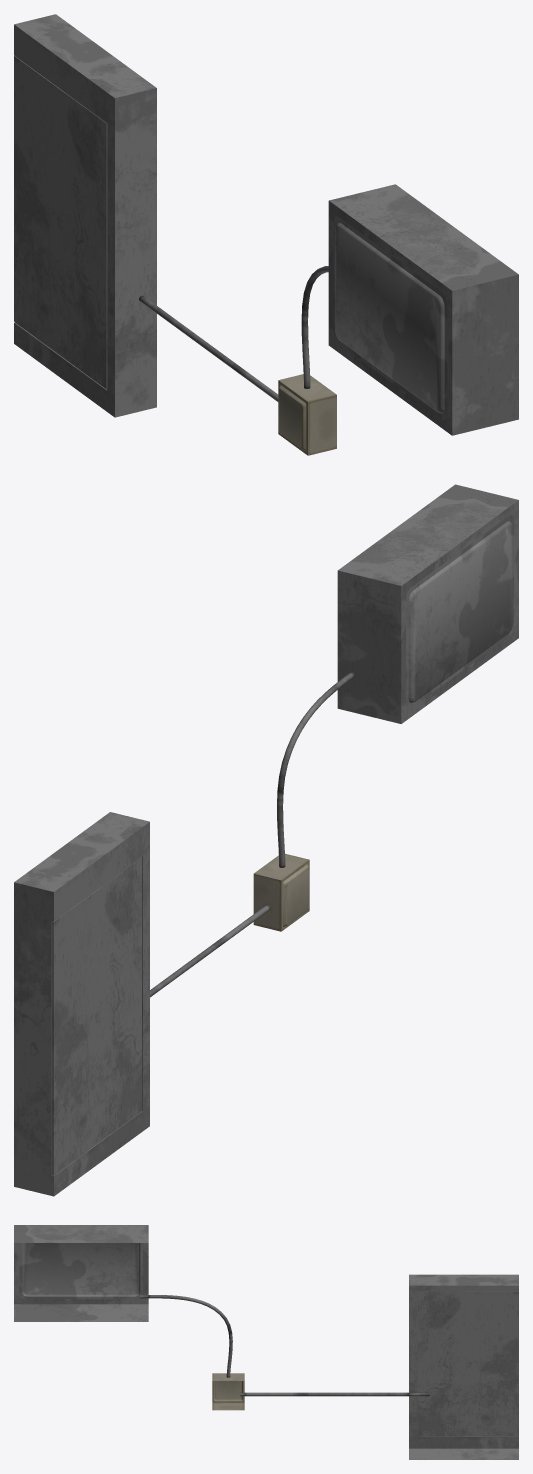
The model's file is SM_ElectricalBox04.fbx.
3 views of the same model, one above another, from view 1: azimuth 30°, elevation 25°; view 2: azimuth 150°, elevation 25°; view 3: azimuth 270°, elevation 25° (orthographic). The views are drawn at different scales.
Parts seen in each view (by area): view 1: SM_ElectricalBox04_LOD0; view 2: SM_ElectricalBox04_LOD0; view 3: SM_ElectricalBox04_LOD0.
Part boxes in pixels (left/top/right/bottom): SM_ElectricalBox04_LOD0: left=14, top=14, right=518, bottom=455; SM_ElectricalBox04_LOD0: left=14, top=484, right=518, bottom=1196; SM_ElectricalBox04_LOD0: left=14, top=1225, right=518, bottom=1459.
Size of the model in its own units: 12.41 by 143 by 67.64.
Materials: 1 (1 with a texture image).
